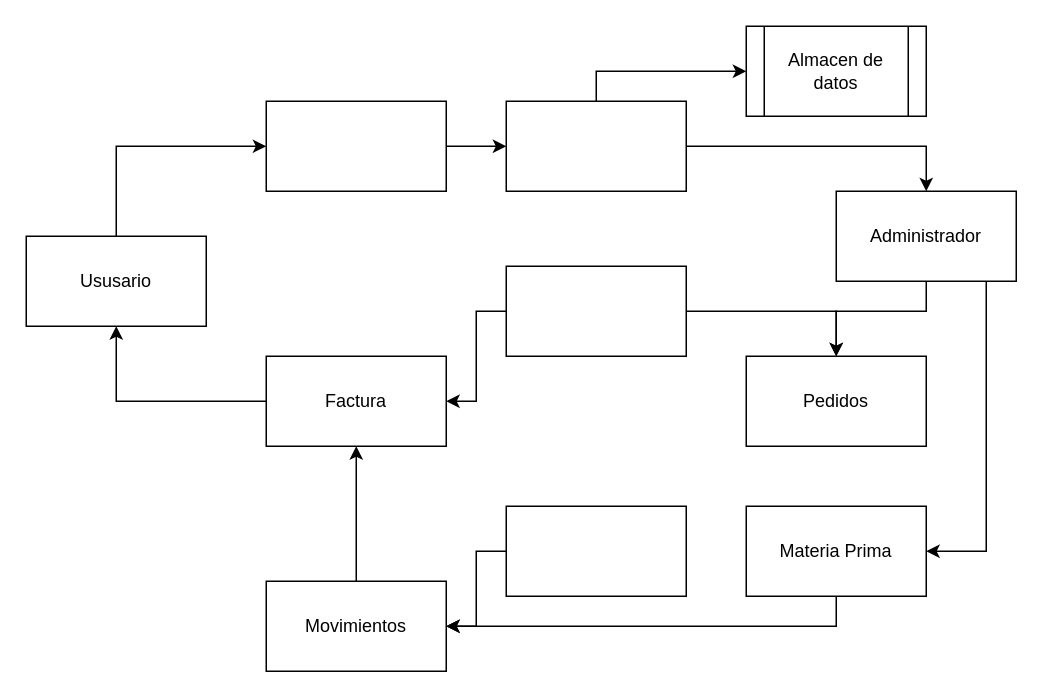
The diagram is 1043 pixels wide and 698 high, and some of its shapes have lost their labels. Each missing label, with the centre of its shape:
"Clientes" belongs at (x=595, y=145).
"Estado Pedidos" belongs at (x=595, y=310).
"Loguear" belongs at (x=355, y=145).
"Producto Terminado" belongs at (x=595, y=550).
